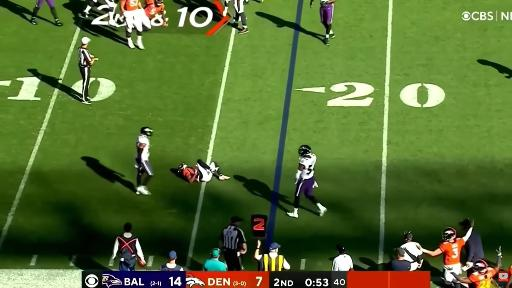Helmet: (442, 227, 456, 241), (473, 260, 487, 273), (299, 145, 311, 156), (140, 127, 153, 136), (178, 163, 189, 173)
Jersey: (439, 238, 465, 265), (468, 268, 496, 287), (300, 154, 316, 179), (145, 0, 164, 18), (136, 135, 149, 161), (124, 0, 139, 10), (183, 168, 197, 178), (320, 0, 329, 6), (509, 266, 511, 274)
Player: (422, 221, 473, 287), (287, 145, 327, 217), (452, 247, 502, 287), (135, 127, 153, 194), (178, 160, 230, 183), (120, 0, 144, 49), (143, 0, 167, 30), (320, 0, 335, 45), (233, 0, 248, 34), (46, 0, 62, 26), (105, 0, 118, 26), (505, 277, 511, 287)
